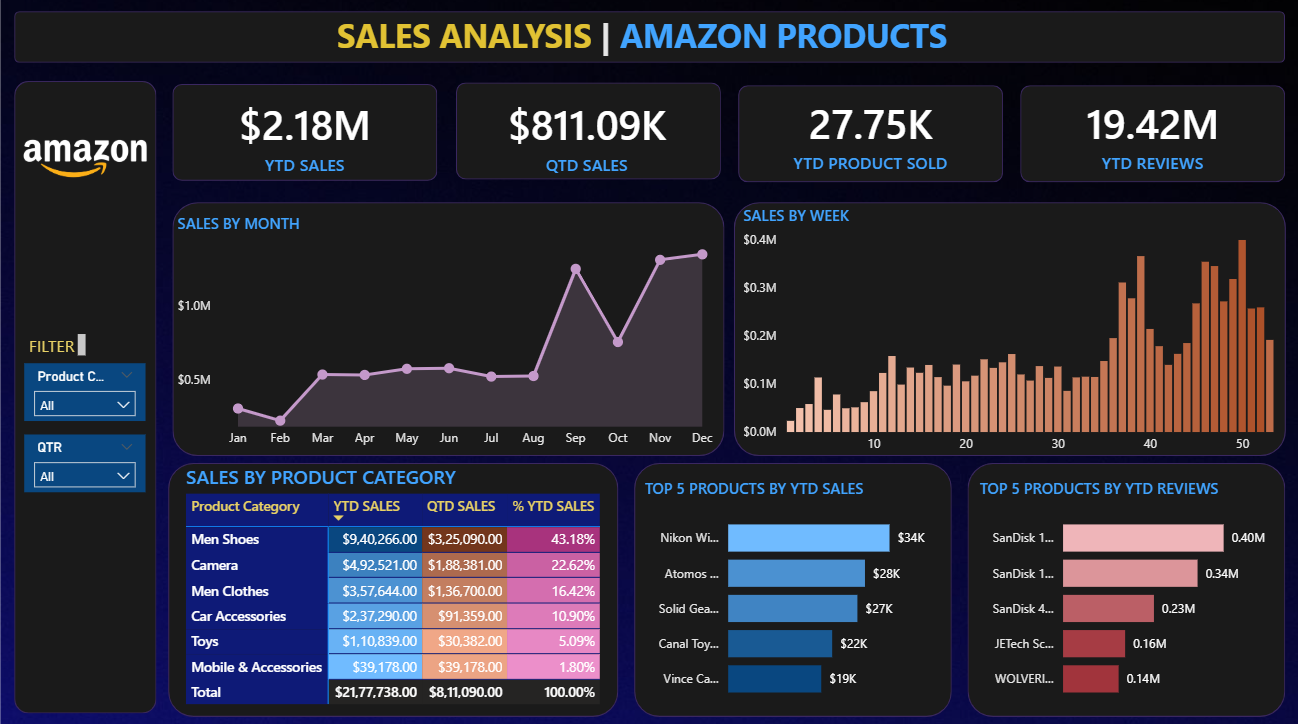

Layout of this report page (visuals, bound fields, positions):
{"tool":"powerbi","page":{"name":"Page 1","canvas":[1280,720],"ordinal":0},"visuals":[{"type":"shape","box":[14.5,14.5,1249.9,50.7],"z":0},{"type":"textbox","box":[326.9,10.9,624.9,59.1],"z":1000},{"type":"shape","box":[14.5,82,139.9,622],"z":2000},{"type":"shape","box":[170.1,201.5,542.9,249.7],"z":3000},{"type":"shape","box":[170.1,85.7,260.6,95.3],"z":4000},{"type":"card","fields":{"Values":["Amazon_Data.YTD SALES"]},"box":[170.1,88.1,260.6,95.3],"z":5000},{"type":"shape","box":[448,84.5,260.6,95.3],"z":6000},{"type":"card","fields":{"Values":["Amazon_Data.QTD SALES"]},"box":[447.6,88.1,260.6,95.3],"z":7000},{"type":"shape","box":[726.3,86.9,260.6,95.3],"z":8000},{"type":"shape","box":[1003.8,86.9,260.6,95.3],"z":9000},{"type":"card","fields":{"Values":["Amazon_Data.YTD PRODUCT SOLD"]},"box":[726.3,86.9,260.6,95.3],"z":10000},{"type":"card","fields":{"Values":["Amazon_Data.YTD REVIEWS"]},"box":[1003.8,86.9,260.6,95.3],"z":11000},{"type":"areaChart","title":"   SALES BY MONTH","fields":{"Category":["Date Table.Month Name"],"Y":["Sum(Amazon_Data.Price(Dollar))"]},"box":[170.1,211.1,542.9,240.1],"z":12000},{"type":"shape","box":[721.5,201.5,542.9,249.7],"z":13000},{"type":"columnChart","title":"SALES BY WEEK","fields":{"Category":["Date Table.WEEK"],"Y":["Sum(Amazon_Data.Price(Dollar))"]},"box":[726.3,205.1,553.8,253.4],"z":14000},{"type":"shape","box":[165.3,458.4,442.8,249.7],"z":15000},{"type":"pivotTable","title":"SALES BY PRODUCT CATEGORY ","fields":{"Values":["Amazon_Data.YTD SALES1","Amazon_Data.QTD SALES","Amazon_Data.YTD SALES"],"Rows":["Amazon_Data.Product Category"]},"box":[178.6,458.4,437.9,249.7],"z":16000},{"type":"shape","box":[623.7,458.4,312.5,249.7],"z":17000},{"type":"shape","box":[951.9,458.4,312.5,249.7],"z":18000},{"type":"clusteredBarChart","title":"TOP 5 PRODUCTS BY YTD SALES","fields":{"Category":["Amazon_Data.Product Description"],"Y":["Amazon_Data.YTD SALES"]},"box":[629.8,472.9,296.8,231.6],"z":19000},{"type":"clusteredBarChart","title":"TOP 5 PRODUCTS BY YTD REVIEWS","fields":{"Category":["Amazon_Data.Product Description"],"Y":["Amazon_Data.YTD REVIEWS"]},"box":[959.1,472.9,296.8,231.6],"z":20000},{"type":"slicer","fields":{"Values":["Amazon_Data.Product Category"]},"box":[24.1,359.5,119.4,56.7],"z":21000},{"type":"slicer","fields":{"Values":["Date Table.QTR"]},"box":[24.1,430.7,119.4,56.7],"z":22000},{"type":"image","box":[14.5,88.1,139.9,141.2],"z":23000},{"type":"textbox","box":[24.1,326.9,65.1,31.4],"z":24000}]}

Visuals, with their boxes in screenshot pixels (x1, y1, x2, y2), scaled from the page's 1280x720 canvas onto the 1298x724 screenshot:
shape: 15:15:1282:66
textbox: 331:11:965:70
shape: 15:82:157:708
shape: 172:203:723:454
shape: 172:86:437:182
card - Amazon_Data.YTD SALES: 172:89:437:184
shape: 454:85:719:181
card - Amazon_Data.QTD SALES: 454:89:718:184
shape: 737:87:1001:183
shape: 1018:87:1282:183
card - Amazon_Data.YTD PRODUCT SOLD: 737:87:1001:183
card - Amazon_Data.YTD REVIEWS: 1018:87:1282:183
"   SALES BY MONTH" areaChart: 172:212:723:454
shape: 732:203:1282:454
"SALES BY WEEK" columnChart: 737:206:1297:461
shape: 168:461:617:712
"SALES BY PRODUCT CATEGORY " pivotTable: 181:461:625:712
shape: 632:461:949:712
shape: 965:461:1282:712
"TOP 5 PRODUCTS BY YTD SALES" clusteredBarChart: 639:476:940:708
"TOP 5 PRODUCTS BY YTD REVIEWS" clusteredBarChart: 973:476:1274:708
slicer - Amazon_Data.Product Category: 24:361:146:419
slicer - Date Table.QTR: 24:433:146:490
image: 15:89:157:231
textbox: 24:329:90:360
